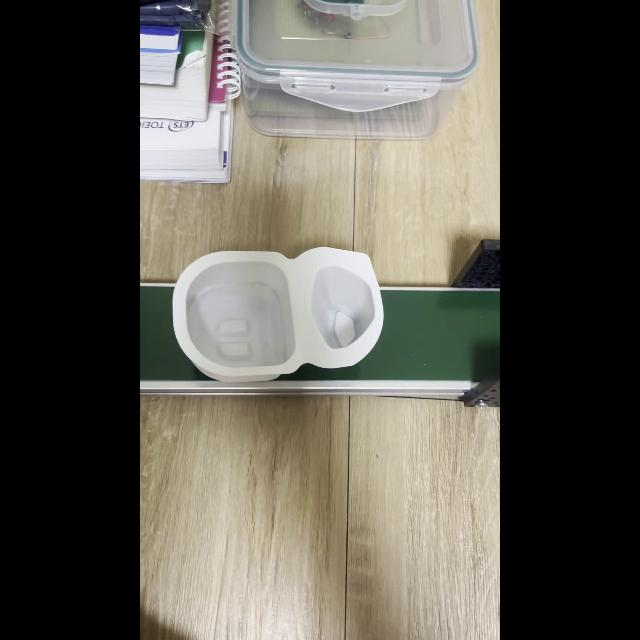clean: (174, 248, 382, 380)
